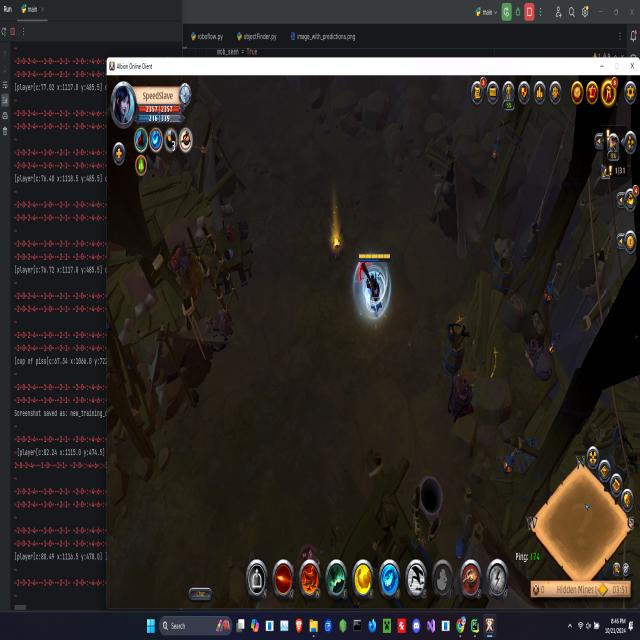red: (354, 248, 394, 324)
